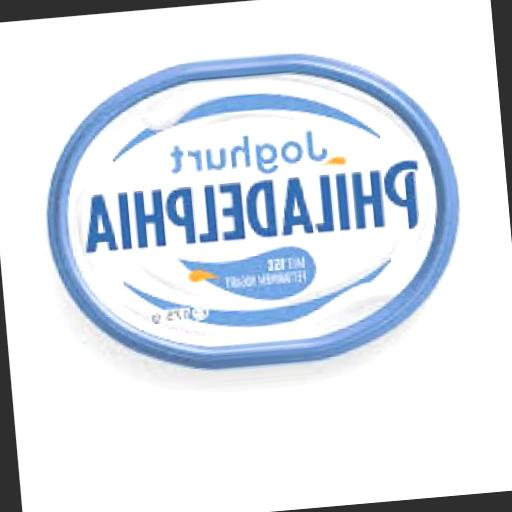plastic: (34, 34, 470, 380)
